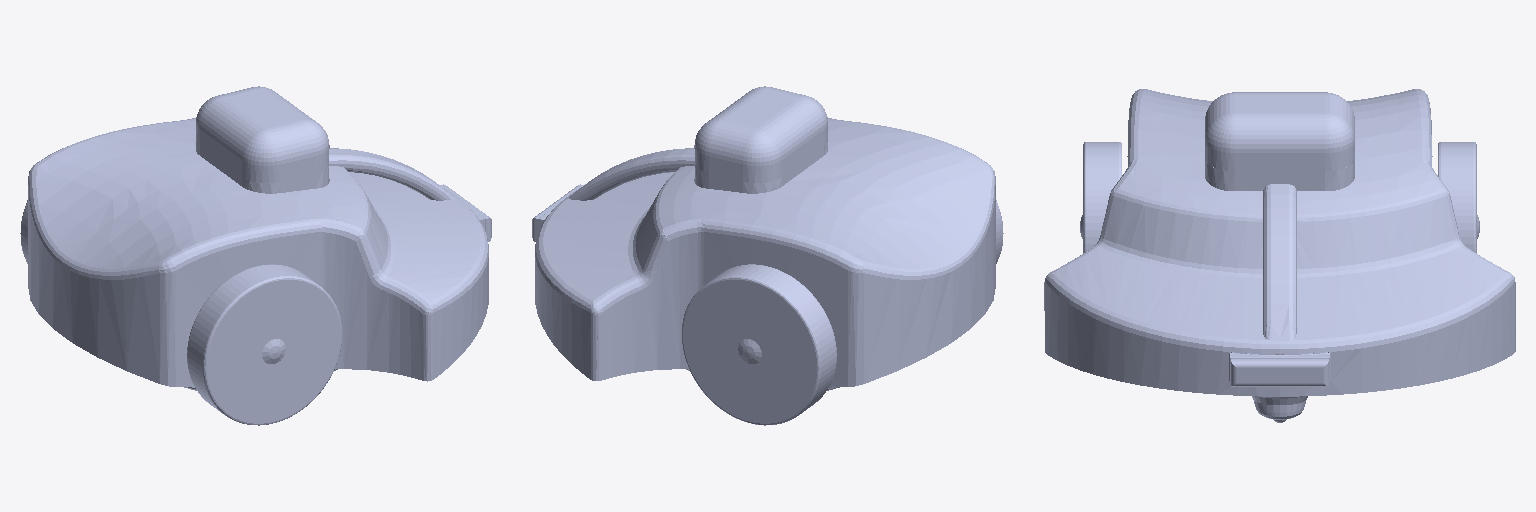
The robot description file, URDF, robot "diff_catbot":
<robot name="diff_catbot">
    <!-- This is a fictitious link, falling right below the center of mass of the robot, and acting as a projection of it on the ground.-->
    <link name="base_footprint">
      <inertial>
        <mass value="0.0001"/>
        <origin xyz="0 0 0"/>
        <inertia ixx="0.0001" ixy="0.0" ixz="0.0" iyy="0.0001" iyz="0.0" izz="0.0001"/>
      </inertial>
    </link>
    <!-- Joint to connect the fictitious link to the actual chassis of the robot -->
    <joint name="base_footprint_joint" type="fixed">
      <origin rpy="0 0 -1.570796327" xyz="0 0 0.125"/>
      <parent link="base_footprint"/>
      <child link="base_link"/>
    </joint>
    <!-- Actual chassis link of the robot -->
    <link name="base_link">
        <inertial>
        <origin
            xyz="0 0 0"
            rpy="0 0 0" />
        <mass
            value="3" />
        <inertia
            ixx="0.0344425345253922"
            ixy="0"
            ixz="0"
            iyy="0.0252767714510505"
            iyz="-0.00237163573657069"
            izz="0.0487445676935793" />
        </inertial>
        <visual>
        <origin
            xyz="0 0 0"
            rpy="0 0 0" />
        <geometry>
            <mesh
            filename="package://catbot_description/meshes/diff_catbot/base_link.STL" />
        </geometry>
        <material
            name="">
            <color
            rgba="0.792156862745098 0.819607843137255 0.933333333333333 1" />
        </material>
        </visual>
        <collision>
        <origin
            xyz="0 0 0"
            rpy="0 0 0" />
        <geometry>
            <mesh
            filename="package://catbot_description/meshes/diff_catbot/base_link.STL" />
        </geometry>
        </collision>
    </link>
    <!-- Right wheel link -->
    <link name="right_wheel">
        <inertial>
        <origin
            xyz="0 0 -0.019494"
            rpy="0 0 0" />
        <mass
            value="2" />
        <inertia
            ixx="0.00017099"
            ixy="0"
            ixz="0"
            iyy="0.00017099"
            iyz="0"
            izz="0.00031986" />
        </inertial>
        <visual>
        <origin
            xyz="0 0 0"
            rpy="0 0 0" />
        <geometry>
            <mesh
            filename="package://catbot_description/meshes/diff_catbot/right_wheel.STL" />
        </geometry>
        <material
            name="">
            <color
            rgba="0.79216 0.81961 0.93333 1" />
        </material>
        </visual>
        <collision>
        <origin
            xyz="0 0 0"
            rpy="0 0 0" />
        <geometry>
            <mesh
            filename="package://catbot_description/meshes/diff_catbot/right_wheel.STL" />
        </geometry>
        </collision>
    </link>
    <!-- Right wheel joint, this joint is commanded with velocity to cause the wheel to rotate -->
    <joint name="right_motor"
        type="continuous">
        <origin
        xyz="0.15697 -0.073269 -0.041165"
        rpy="1.5708 0 -1.5708" />
        <parent
        link="base_link" />
        <child
        link="right_wheel" />
        <axis
        xyz="0 0 1" />
        <limit
        effort="100"
        velocity="100" />
        <dynamics
        damping="0"
        friction="0" />
    </joint>
    <!-- Left wheel link -->
    <link name="left_wheel">
        <inertial>
        <origin
            xyz="0 0 0.019494"
            rpy="0 0 0" />
        <mass
            value="2" />
        <inertia
            ixx="0.00017099"
            ixy="0"
            ixz="0"
            iyy="0.00017099"
            iyz="0"
            izz="0.00031986" />
        </inertial>
        <visual>
        <origin
            xyz="0 0 0"
            rpy="0 0 0" />
        <geometry>
            <mesh
            filename="package://catbot_description/meshes/diff_catbot/left_wheel.STL" />
        </geometry>
        <material
            name="">
            <color
            rgba="0.79216 0.81961 0.93333 1" />
        </material>
        </visual>
        <collision>
        <origin
            xyz="0 0 0"
            rpy="0 0 0" />
        <geometry>
            <mesh
            filename="package://catbot_description/meshes/diff_catbot/left_wheel.STL" />
        </geometry>
        </collision>
    </link>
    <!-- Left wheel joint, this joint is commanded with velocity to cause the wheel to rotate -->
    <joint name="left_motor"
        type="continuous">
        <origin
        xyz="-0.15697 -0.073269 -0.041165"
        rpy="1.5708 0 -1.5708" />
        <parent
        link="base_link" />
        <child
        link="left_wheel" />
        <axis
        xyz="0 0 1" />
        <limit
        effort="100"
        velocity="100" />
        <dynamics
        damping="0"
        friction="0" />
    </joint>
    <!-- Caster Wheel Joint and Link -->
    <joint name="ball_and_socket"
        type="fixed">
        <origin
        xyz="0 0.20508 -0.11627"
        rpy="1.5708 0 -1.5708" />
        <parent
        link="base_link" />
        <child
        link="caster_wheel" />
    </joint>
    <link name="caster_wheel">
        <inertial>
        <origin
            xyz="0 0 0"
            rpy="0 0 0" />
        <mass
            value="0.0035914" />
        <inertia
            ixx="1.2965E-07"
            ixy="0"
            ixz="0"
            iyy="1.2965E-07"
            iyz="0"
            izz="1.2965E-07" />
        </inertial>
        <visual>
        <origin
            xyz="0 0 0"
            rpy="0 0 0" />
        <geometry>
            <mesh
            filename="package://catbot_description/meshes/diff_catbot/caster_wheel.STL" />
        </geometry>
        <material
            name="">
            <color
            rgba="0.79216 0.81961 0.93333 1" />
        </material>
        </visual>
        <collision>
        <origin
            xyz="0 0 0"
            rpy="0 0 0" />
        <geometry>
            <mesh
            filename="package://catbot_description/meshes/diff_catbot/caster_wheel.STL" />
        </geometry>
        </collision>
    </link>
    <!-- Camera Link -->
    <link name="camera">
        <inertial>
        <origin
            xyz="0 0 0"
            rpy="0 0 0" />
        <mass
            value="0.028578" />
        <inertia
            ixx="2.1737E-05"
            ixy="0"
            ixz="0"
            iyy="2.037E-06"
            iyz="0"
            izz="2.0659E-05" />
        </inertial>
        <visual>
        <origin
            xyz="0 0 0"
            rpy="0 0 0" />
        <geometry>
            <mesh
            filename="package://catbot_description/meshes/diff_catbot/camera.STL" />
        </geometry>
        <material
            name="">
            <color
            rgba="0.79216 0.81961 0.93333 1" />
        </material>
        </visual>
        <collision>
        <origin
            xyz="0 0 0"
            rpy="0 0 0" />
        <geometry>
            <mesh
            filename="package://catbot_description/meshes/diff_catbot/camera.STL" />
        </geometry>
        </collision>
    </link>
    <!-- Camera Joint to connect the camera to the chassis -->
    <joint name="camera_joint"
        type="fixed">
        <origin
        xyz="0 0.27409 -0.039719"
        rpy="0 0 1.5708" />
        <parent
        link="base_link" />
        <child
        link="camera" />
        <axis
        xyz="0 0 0" />
    </joint>
    <!-- Laser Scanner Link -->
    <link name="laser_scanner">
        <inertial>
        <origin
            xyz="0 0 0"
            rpy="0 0 0" />
        <mass
            value="0.6525" />
        <inertia
            ixx="0.0011739"
            ixy="0"
            ixz="0"
            iyy="0.00060212"
            iyz="0"
            izz="0.0015305" />
        </inertial>
        <visual>
        <origin
            xyz="0 0 0"
            rpy="0 0 0" />
        <geometry>
            <mesh
            filename="package://catbot_description/meshes/diff_catbot/laser_scanner.STL" />
        </geometry>
        <material
            name="">
            <color
            rgba="0.79216 0.81961 0.93333 1" />
        </material>
        </visual>
        <collision>
        <origin
            xyz="0 0 0"
            rpy="0 0 0" />
        <geometry>
            <mesh
            filename="package://catbot_description/meshes/diff_catbot/laser_scanner.STL" />
        </geometry>
        </collision>
    </link>
    <!-- Laser Scanner Joint to connect the laser scanner to the chassis -->
    <joint name="laser_scanner_joint"
        type="fixed">
        <origin
        xyz="0 0.026147 0.11309"
        rpy="0 0 1.5708" />
        <parent
        link="base_link" />
        <child
        link="laser_scanner" />
        <axis
        xyz="0 0 0" />
    </joint>

    <transmission name="left_motor_transmission">
      <type>transmission_interface/SimpleTransmission</type>
      <joint name="left_motor">
        <hardwareInterface>EffortJointInterface</hardwareInterface>
      </joint>
      <actuator name="left_joint_motor">
        <hardwareInterface>EffortJointInterface</hardwareInterface>
        <mechanicalReduction>1</mechanicalReduction>
      </actuator>
    </transmission>
    <transmission name="right_motor_transmission">
      <type>transmission_interface/SimpleTransmission</type>
      <joint name="right_motor">
        <hardwareInterface>EffortJointInterface</hardwareInterface>
      </joint>
      <actuator name="right_joint_motor">
        <hardwareInterface>EffortJointInterface</hardwareInterface>
        <mechanicalReduction>1</mechanicalReduction>
      </actuator>
    </transmission>

    <gazebo reference="base_footprint">
      <turnGravityOff>false</turnGravityOff>
    </gazebo>
    <gazebo reference="left_wheel">
        <mu1 value="50"/>
        <mu2 value="50"/>
        <kp  value="10000000.0" />
        <kd  value="1.0" />
        <fdir1 value="1 0 0"/>
        <material>Gazebo/Black</material>
        <turnGravityOff>false</turnGravityOff>
    </gazebo>
    <gazebo reference="right_wheel">
        <mu1 value="50"/>
        <mu2 value="50"/>
        <kp  value="10000000.0" />
        <kd  value="1.0" />
        <fdir1 value="1 0 0"/>
        <material>Gazebo/Black</material>
        <turnGravityOff>false</turnGravityOff>
    </gazebo>
    <gazebo reference="base_link">
            <material> Gazebo/Red </material>
    </gazebo>
    <gazebo reference="camera">
        <material> Gazebo/Blue </material>
    </gazebo>
    <gazebo reference="laser_scanner">
        <material> Gazebo/Orange </material>
    </gazebo>
    <!-- Loading gazebo-ros-control plugin -->
    <gazebo>
            <plugin name="gazebo_ros_control" filename="libgazebo_ros_control.so">
                    <robotNamespace>/catbot</robotNamespace>
                    <controlPeriod> 0.01 </controlPeriod>
            </plugin>
    </gazebo>
    <!-- Loading gazebo sensor (camera) plugin and connecting it to the camera link -->
    <gazebo reference="camera">
        <sensor type="camera" name="front_camera">
          <update_rate>30.0</update_rate>
          <camera name="front_camera">
            <horizontal_fov>1.3962634</horizontal_fov>
            <image>
              <width>800</width>
              <height>600</height>
              <format>R8G8B8</format>
            </image>
            <clip>
              <near>0.02</near>
              <far>300</far>
            </clip>
            <noise>
              <type>gaussian</type>
              <!-- Noise is sampled independently per pixel on each frame.
                   That pixel's noise value is added to each of its color
                   channels, which at that point lie in the range [0,1]. -->
              <mean>0.0</mean>
              <stddev>0.007</stddev>
            </noise>
          </camera>
          <plugin name="camera_controller" filename="libgazebo_ros_camera.so">
            <alwaysOn>true</alwaysOn>
            <updateRate>30.0</updateRate>
            <cameraName>catbot/front_camera</cameraName>
            <imageTopicName>image_raw</imageTopicName>
            <cameraInfoTopicName>camera_info</cameraInfoTopicName>
            <frameName>camera</frameName>
            <hackBaseline>0.07</hackBaseline>
            <distortionK1>0.0</distortionK1>
            <distortionK2>0.0</distortionK2>
            <distortionK3>0.0</distortionK3>
            <distortionT1>0.0</distortionT1>
            <distortionT2>0.0</distortionT2>
          </plugin>
        </sensor>
    </gazebo>
    <!-- Loading gazebo sensor (laser scanner) plugin and connecting it to the laser scanner link -->
    <gazebo reference="laser_scanner">
      <sensor type="ray" name="head_hokuyo_sensor">
        <pose>0 0 0 0 0 0</pose>
        <visualize>false</visualize>
        <update_rate>40</update_rate>
        <ray>
          <scan>
            <horizontal>
              <samples>720</samples>
              <resolution>1</resolution>
              <min_angle>-1.570796</min_angle>
              <max_angle>1.570796</max_angle>
            </horizontal>
          </scan>
          <range>
            <min>0.10</min>
            <max>30.0</max>
            <resolution>0.01</resolution>
          </range>
          <noise>
            <type>gaussian</type>
            <!-- Noise parameters based on published spec for Hokuyo laser
                 achieving "+-30mm" accuracy at range < 10m.  A mean of 0.0m and
                 stddev of 0.01m will put 99.7% of samples within 0.03m of the true
                 reading. -->
            <mean>0.0</mean>
            <stddev>0.01</stddev>
          </noise>
        </ray>
        <plugin name="gazebo_ros_head_hokuyo_controller" filename="libgazebo_ros_laser.so">
          <topicName>/diff_catbot/laser/scan</topicName>
          <frameName>laser_scanner</frameName>
        </plugin>
      </sensor>
    </gazebo>
    <gazebo>
        <plugin name="differential_drive_controller" filename="libgazebo_ros_diff_drive.so">
            <rosDebugLevel> Debug </rosDebugLevel>
            <publishWheelTF>true</publishWheelTF>
            <robotNameSpace>/</robotNameSpace>
            <publishTF>1</publishTF>
            <publishWheelJointState>true</publishWheelJointState>
            <alwaysOn>true</alwaysOn>
            <updateRate>100.0</updateRate>
            <leftJoint>left_motor</leftJoint>
            <rightJoint>right_motor</rightJoint>
            <wheelSeparation>0.353</wheelSeparation>
            <wheelDiameter>0.164</wheelDiameter>
            <broadcastTF>1</broadcastTF>
            <wheelTorque>30</wheelTorque>
            <wheelAcceleration>2.8</wheelAcceleration>
            <commandTopic>catbot/cmd_vel</commandTopic>
            <odometryFrame>catbot/odom</odometryFrame>
            <odometryTopic>catbot/odom</odometryTopic>
            <robotBaseFrame>base_footprint</robotBaseFrame>
            <legacyMode>false</legacyMode>
            <odometrySource>encoder</odometrySource>
        </plugin>
    </gazebo>
</robot>

--- What the picture shows (computed from the rendered views, not written in the file) ---
Views: 3 orthographic renders of the robot side by side, from view 1: azimuth 30°, elevation 25°; view 2: azimuth 150°, elevation 25°; view 3: azimuth 270°, elevation 25°.
Model diff_catbot with 7 links and 6 joints (2 continuous, 4 fixed), rooted at base_footprint, posed all joints at 0.
Visible links, largest first — view 1: base_link, right_wheel, laser_scanner; view 2: base_link, left_wheel, laser_scanner; view 3: base_link, laser_scanner, right_wheel, left_wheel, camera.
Boxes of the visible links, bbox=[...] form: base_link: bbox=[28, 118, 488, 390]; right_wheel: bbox=[187, 264, 341, 425]; laser_scanner: bbox=[196, 86, 329, 182]; base_link: bbox=[535, 118, 995, 390]; left_wheel: bbox=[682, 264, 836, 425]; laser_scanner: bbox=[694, 86, 827, 182]; base_link: bbox=[1044, 89, 1515, 419]; laser_scanner: bbox=[1205, 92, 1354, 170]; right_wheel: bbox=[1083, 142, 1121, 252]; left_wheel: bbox=[1438, 142, 1476, 252]; camera: bbox=[1231, 359, 1328, 386].
Size in the robot's own frame: 0.4995 by 0.4694 by 0.2666 metres.
Meshes: 6 distinct files referenced, 6 mesh visuals loaded (6 binary STL).
